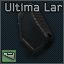MP-155 Ultima large recoil pad: (0, 0, 64, 64)
